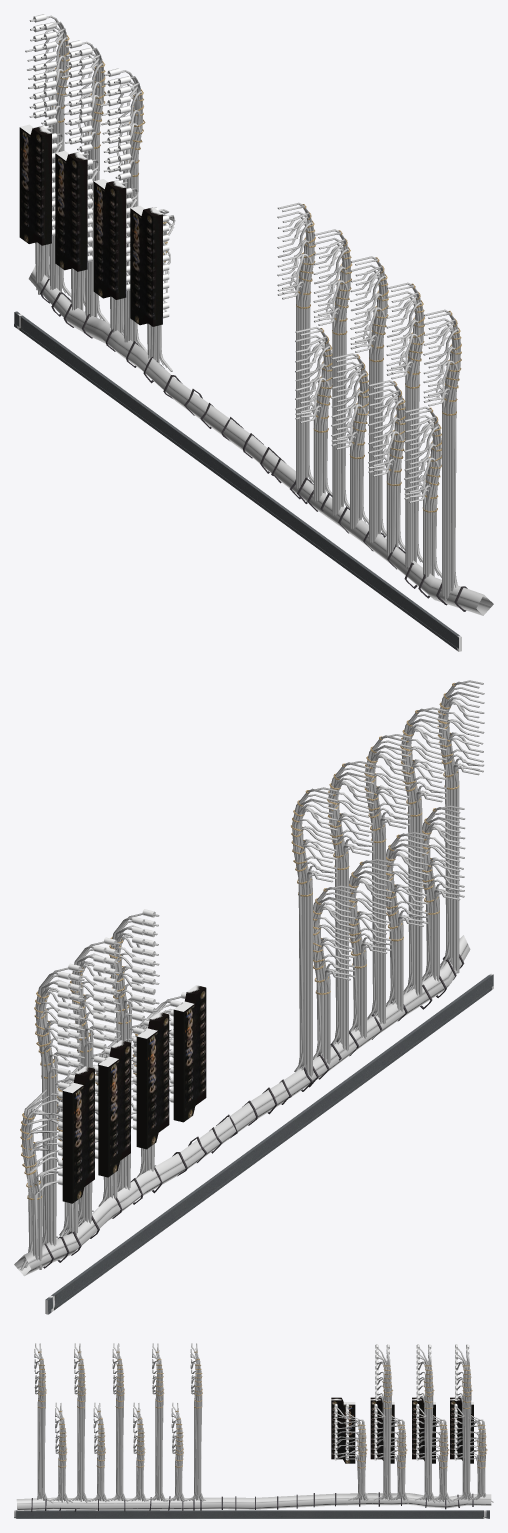
File: wires.fbx
3 views of the same model, one above another, from view 1: azimuth 30°, elevation 25°; view 2: azimuth 150°, elevation 25°; view 3: azimuth 270°, elevation 25° (orthographic). The views are drawn at different scales.
Visible parts, largest first — view 1: wire.001; view 2: wire.001; view 3: wire.001.
Part boxes in pixels (bbox=[...]): wire.001: bbox=[14, 14, 493, 651]; wire.001: bbox=[14, 680, 493, 1314]; wire.001: bbox=[14, 1343, 493, 1518].
Size of the model in its own units: 4.44 by 28.78 by 72.01.
